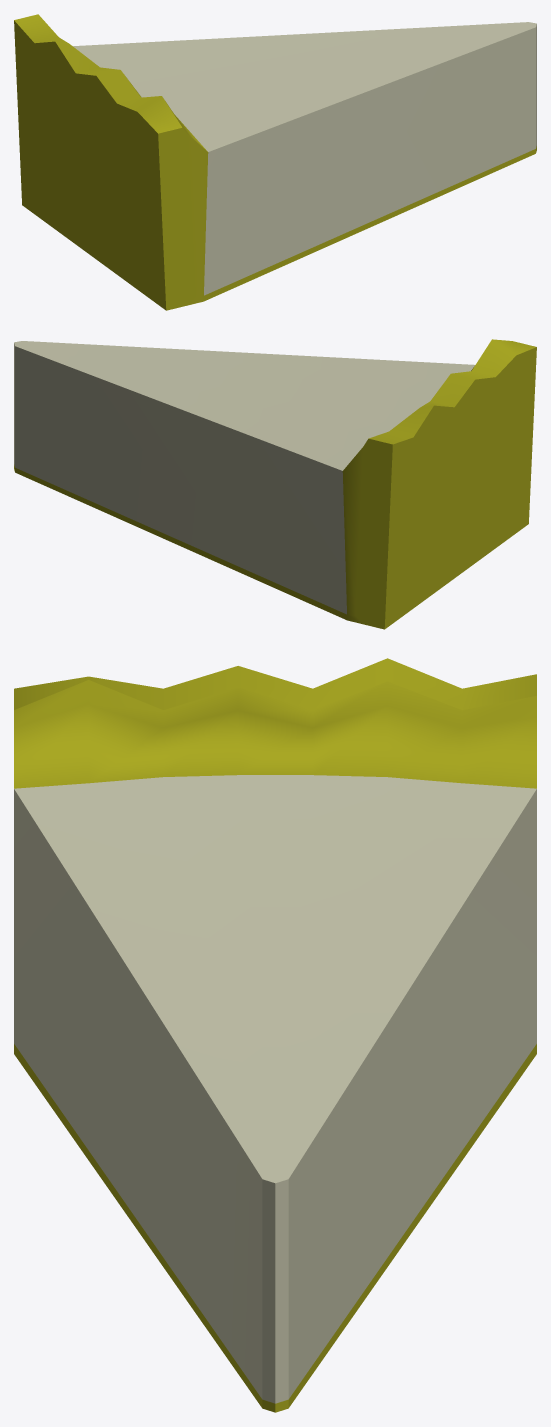
Rendered from PieSlice.fbx.
3 renders of one model, top to bottom at view 1: azimuth 30°, elevation 25°; view 2: azimuth 150°, elevation 25°; view 3: azimuth 270°, elevation 25°, orthographic. The views are drawn at different scales.
Visible parts, largest first — view 1: PieSlice; view 2: PieSlice; view 3: PieSlice.
Part boxes in pixels (box(x1,y1,x2,y2)): PieSlice: box(14, 14, 536, 310); PieSlice: box(14, 339, 536, 629); PieSlice: box(14, 658, 536, 1412).
Size of the model in its own units: 17.68 by 7.34 by 9.79.
